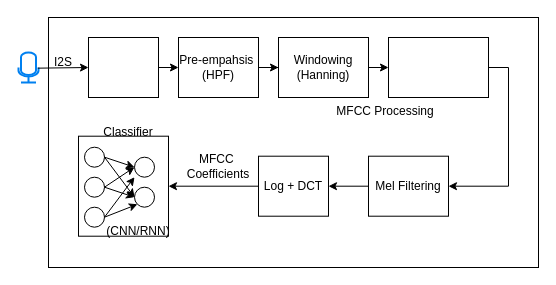
Some shapes in this 556 by 285 pixel diagram are drawn without their labels. The shapes that lost their labels are listed below. From the top down, each one's centre as x and y in pixels, then its label:
the point at 123,67: Deserializer
the point at 438,67: Fast-Fourier Transform (FFT)
